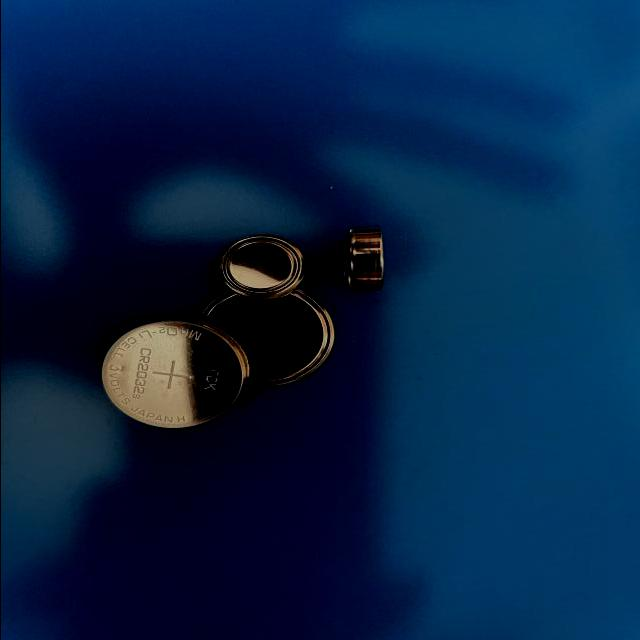COIN: (96, 320, 246, 430), (185, 287, 337, 390), (218, 232, 309, 300), (338, 226, 389, 298)
